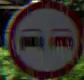No overtake: (5, 0, 82, 76)
